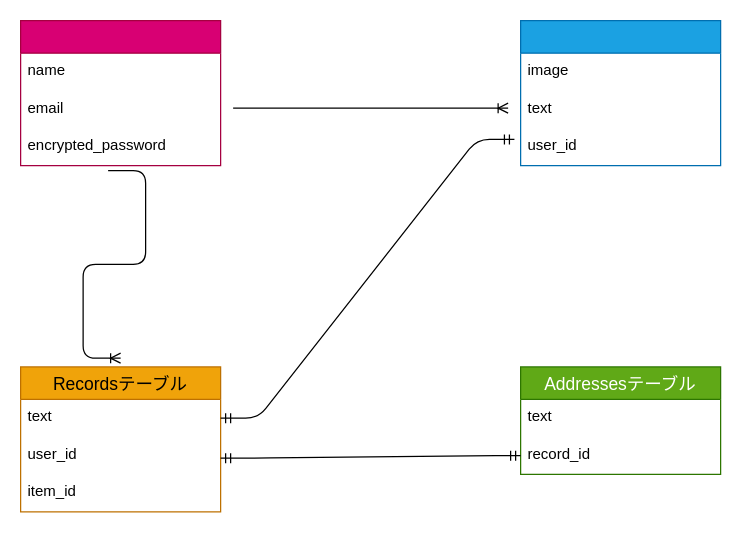
The diagram is 741 pixels wide and 533 high, and some of its shapes have lost their labels. The box of each missing label's shape, as (x1, y1, x2, y2) in pixels:
Itemsテーブル: (519, 19, 721, 166)
Usersテーブル: (19, 19, 221, 166)
